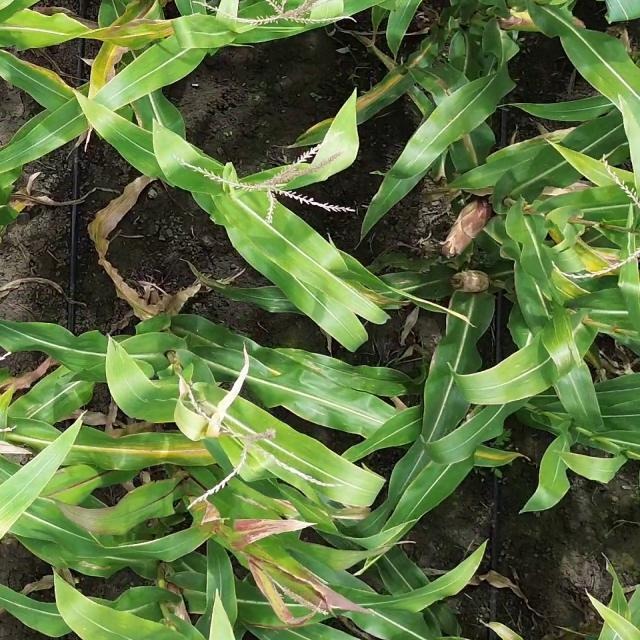gray-leaf-spot: (0, 464, 38, 530), (94, 112, 147, 144), (245, 286, 296, 313)
northern-leaf-blight: (426, 77, 484, 152), (88, 434, 218, 466), (348, 64, 404, 111), (66, 551, 134, 576)
southern-leaf-blight: (302, 353, 398, 392)
